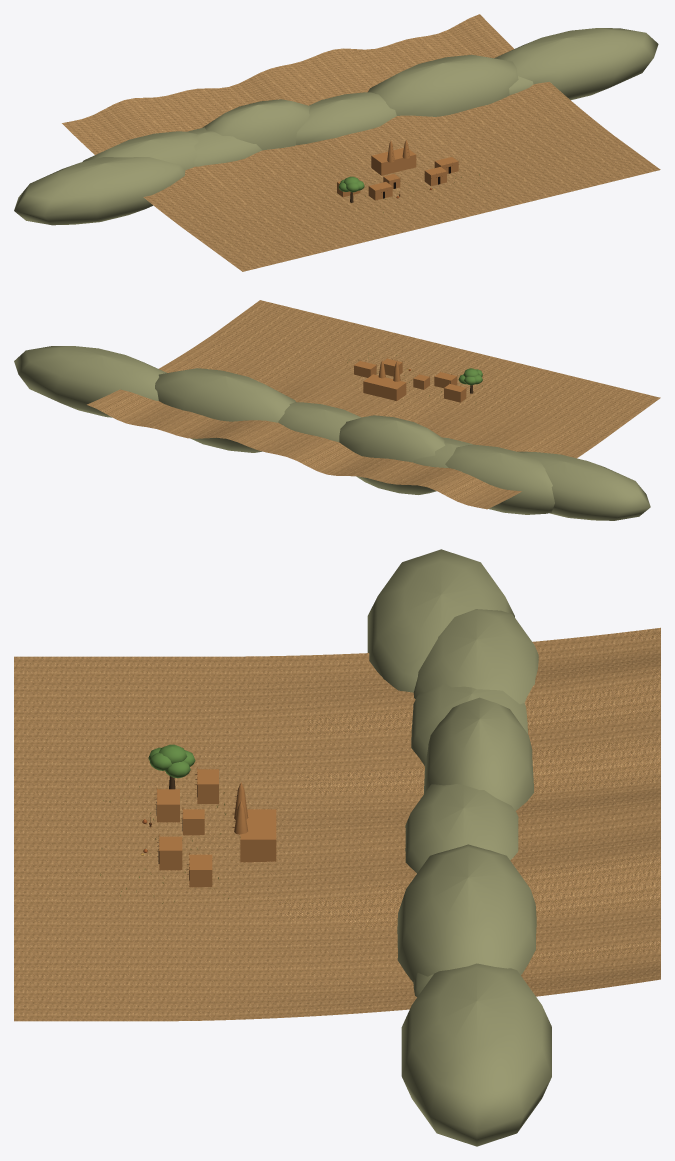
The model's file is village-soudanais.glb.
The picture shows the model from 3 angles, top to bottom: view 1: azimuth 30°, elevation 25°; view 2: azimuth 150°, elevation 25°; view 3: azimuth 270°, elevation 25°; orthographic projection. The views are drawn at different scales.
Parts seen in each view (by area): view 1: sol, decor; view 2: sol, decor; view 3: sol, decor.
Boxes of the visible parts, left/top/right/bottom form: sol: left=62, top=14, right=660, bottom=271; decor: left=14, top=28, right=658, bottom=225; sol: left=87, top=300, right=660, bottom=509; decor: left=14, top=346, right=650, bottom=520; sol: left=14, top=627, right=660, bottom=1021; decor: left=100, top=549, right=551, bottom=1146.
Bounding box in the file's own units: 188 × 19.8 × 90.
Materials: 12 (1 with a texture image).
